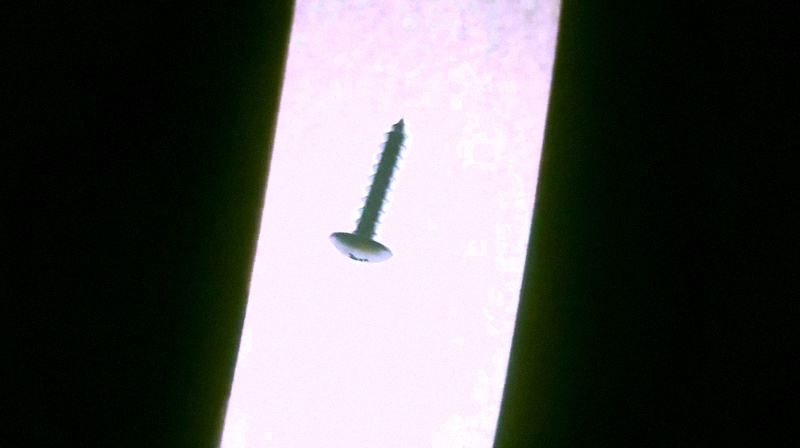S003: (326, 116, 407, 269)
